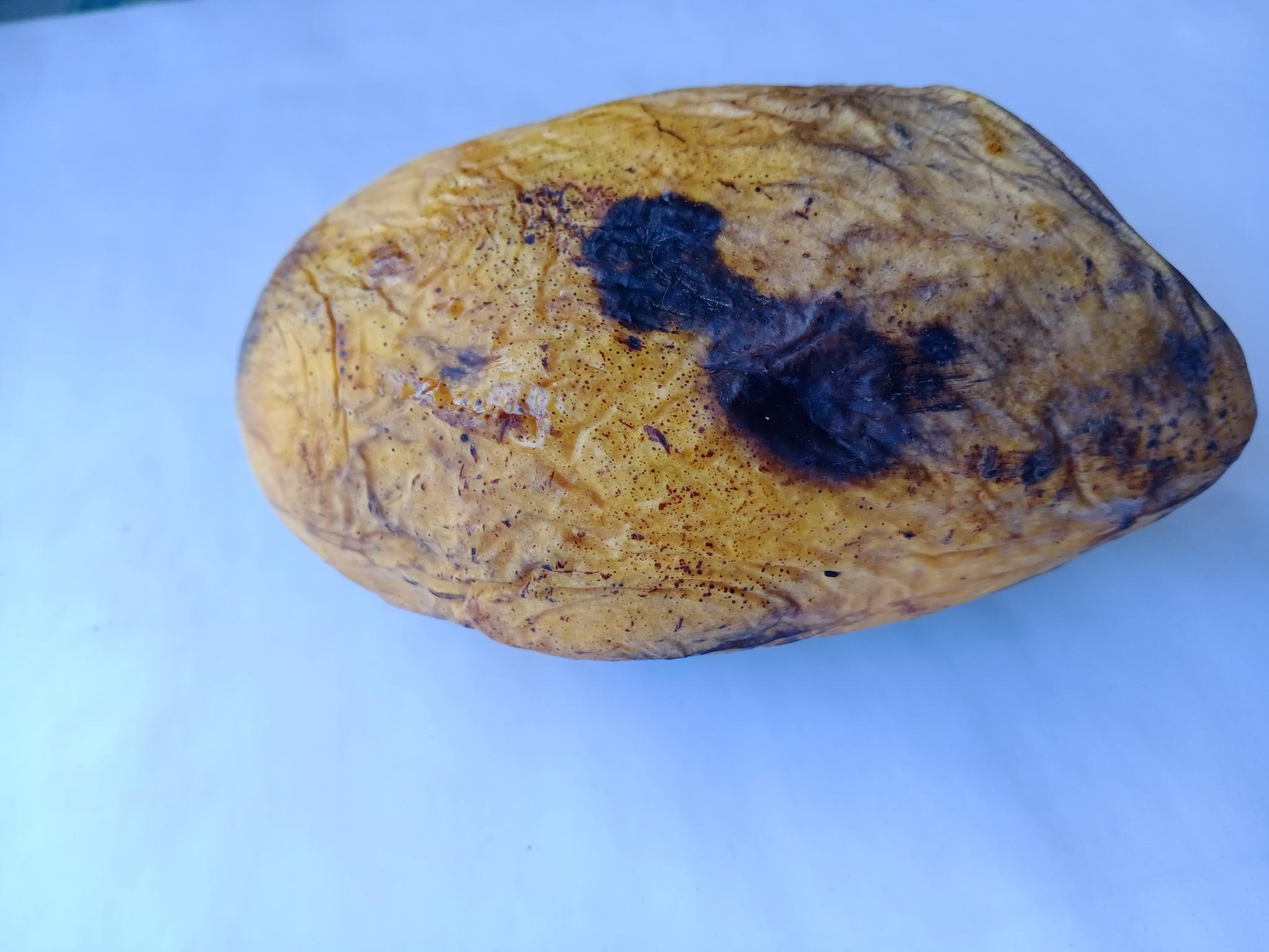Mango Overripe: (201, 52, 1269, 672)
